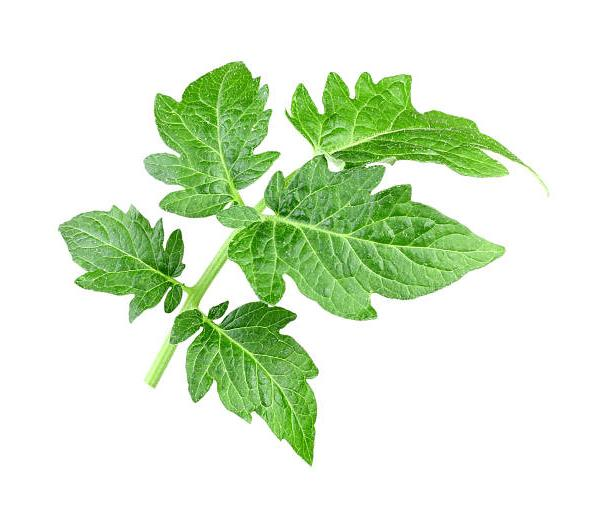Tomato leaf: (227, 156, 508, 342), (266, 38, 534, 206), (170, 277, 334, 477), (150, 35, 287, 241), (48, 202, 189, 332)
